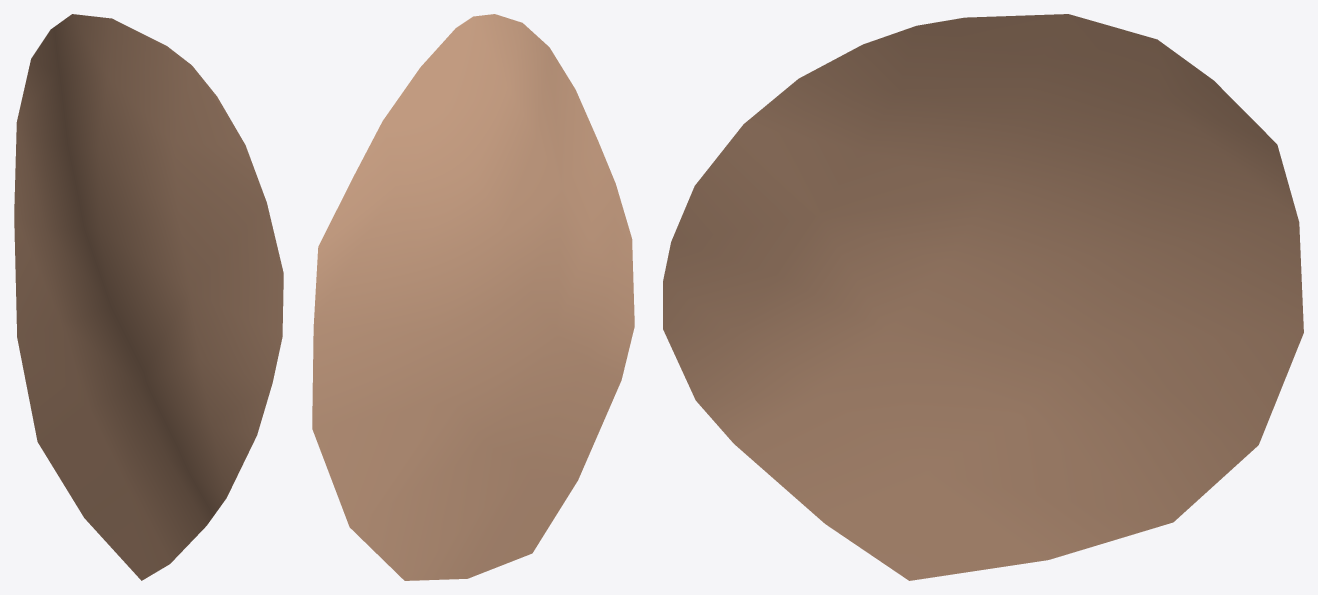
Rendered from medial-malleolus-l.glb.
The picture shows the model from 3 angles, left to right: view 1: azimuth 30°, elevation 25°; view 2: azimuth 150°, elevation 25°; view 3: azimuth 270°, elevation 25°; orthographic projection. The views are drawn at different scales.
Parts seen in each view (by area): view 1: Medial malleolus.l; view 2: Medial malleolus.l; view 3: Medial malleolus.l.
Part boxes in pixels (bbox=[...]): Medial malleolus.l: bbox=[14, 14, 283, 580]; Medial malleolus.l: bbox=[312, 14, 634, 580]; Medial malleolus.l: bbox=[663, 14, 1303, 580].
Bounding box in the file's own units: 0.00634 × 0.0431 × 0.0423.
